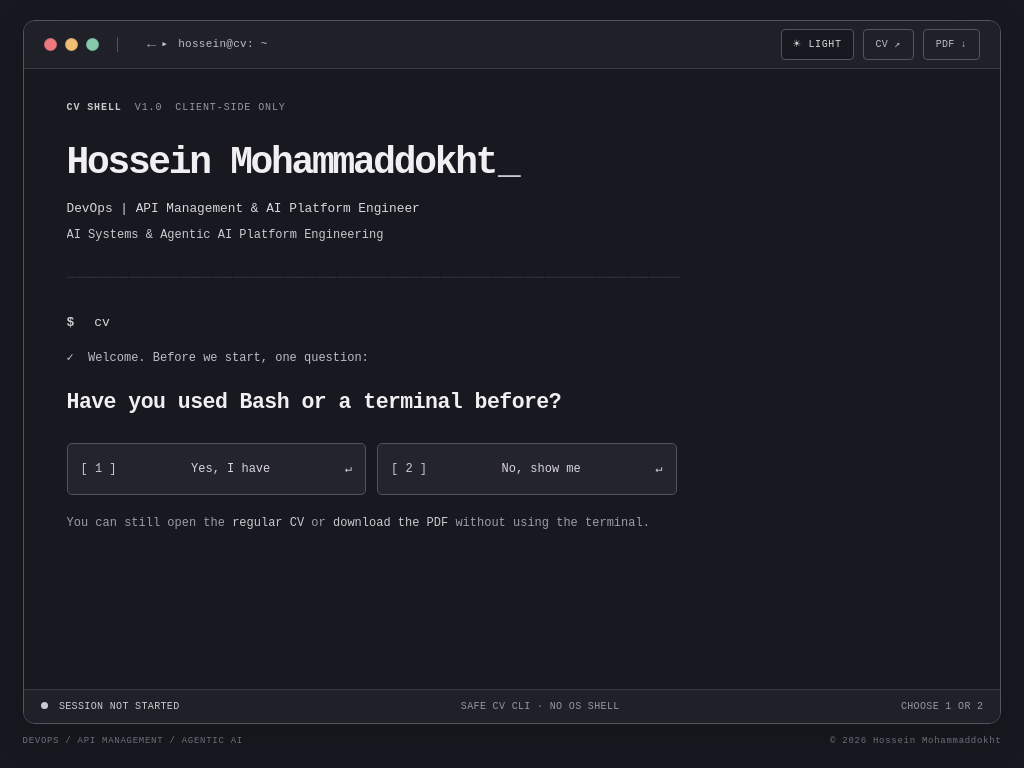
Test: Terminal-first CV interaction › lets beginners run a command while the intro collapses softly
Later steps or results of the test are not shown.
What coordinates should you click on to do the following:
click the button "[ 2 ] No, show me ↵"
I would click on:
 (527, 469)
Its box is [377,443,676,495].
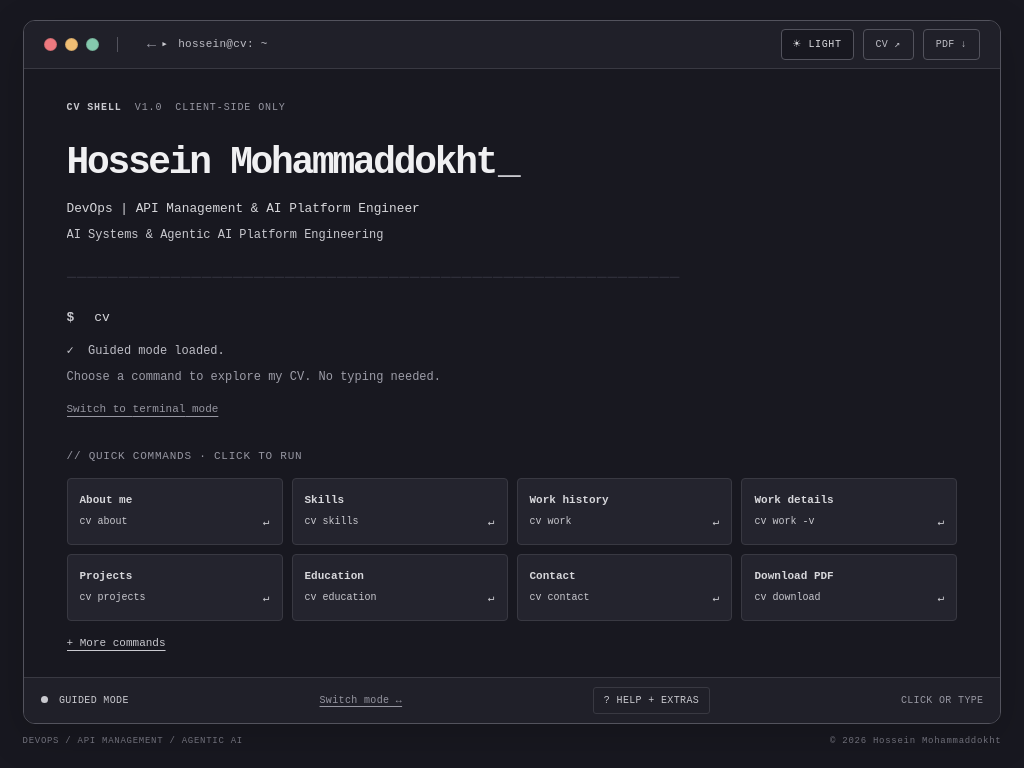
What coordinates should you click on to do the following:
click the button "Work details cv work -v ↵"
I would click on:
 (850, 511)
Its box is [742,478,958,545].
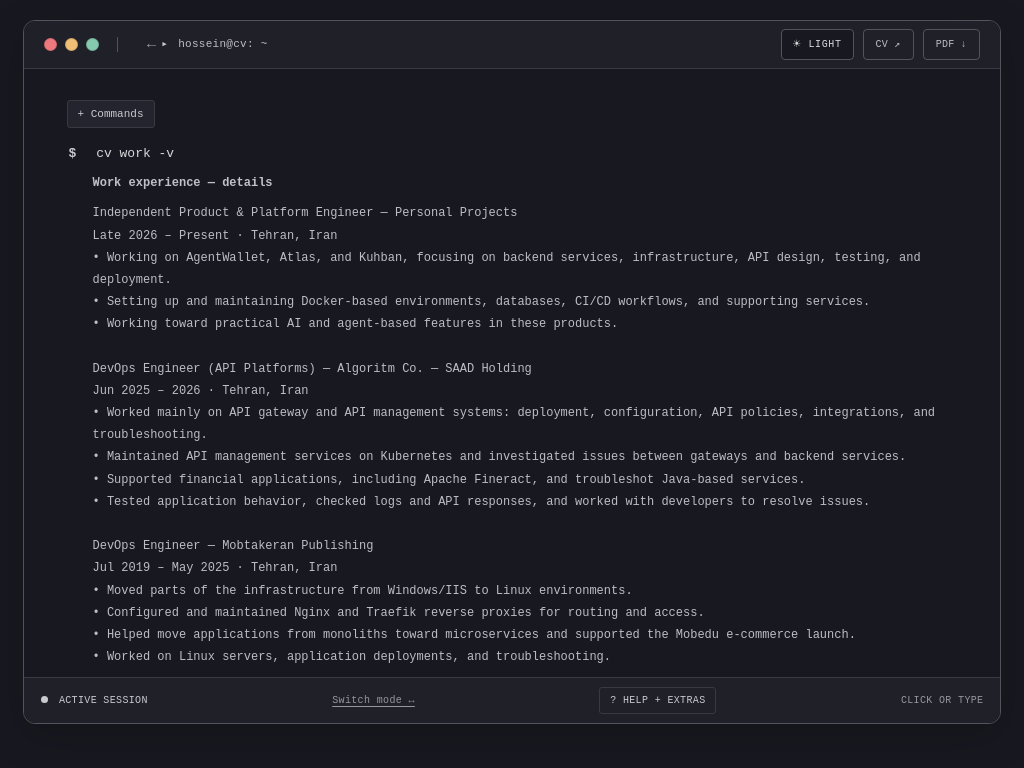
Expected: the text "Apache Fineract" is shown, [92,473,805,487]
Expected: the element with class "cvcli-startup" is gone
Expected: the number of elements with class "cvcli-turn" is 1
